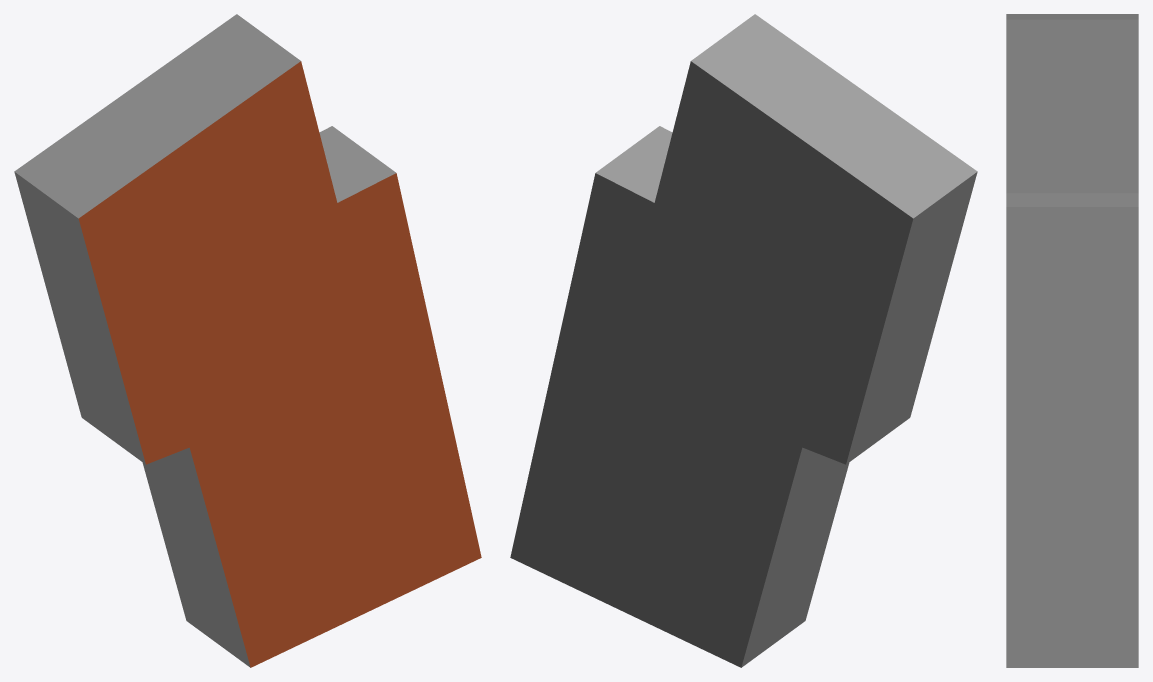
The model's file is construction_1476_assumed_A_Casa_h6m.obj.
3 renders of one model, left to right at view 1: azimuth 30°, elevation 25°; view 2: azimuth 150°, elevation 25°; view 3: azimuth 270°, elevation 25°, orthographic. The views are drawn at different scales.
Parts seen in each view (by area): view 1: construction_1476_assumed_A_Casa; view 2: construction_1476_assumed_A_Casa; view 3: construction_1476_assumed_A_Casa.
Part boxes in pixels (x1,y1,x2,y2): construction_1476_assumed_A_Casa: (14,14,481,667); construction_1476_assumed_A_Casa: (510,14,977,667); construction_1476_assumed_A_Casa: (1006,14,1138,667).
Bounding box in the file's own units: 21.73 × 30.62 × 6.
